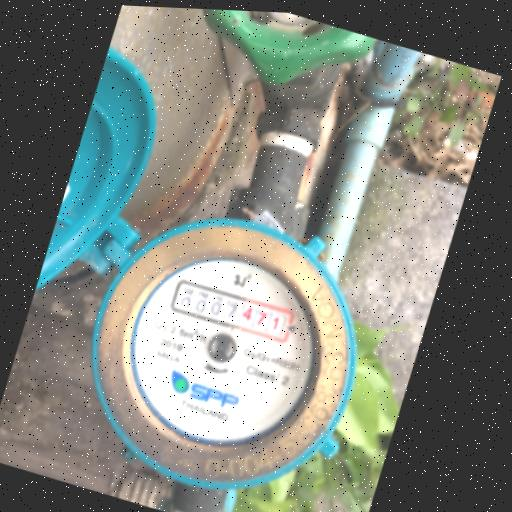0: (207, 296, 224, 319), (193, 292, 209, 314), (178, 288, 194, 309)
1: (267, 314, 284, 336)
4: (238, 305, 255, 328)
7: (222, 301, 238, 323), (253, 310, 269, 332)
border_water_meter_number: (167, 277, 298, 346)
